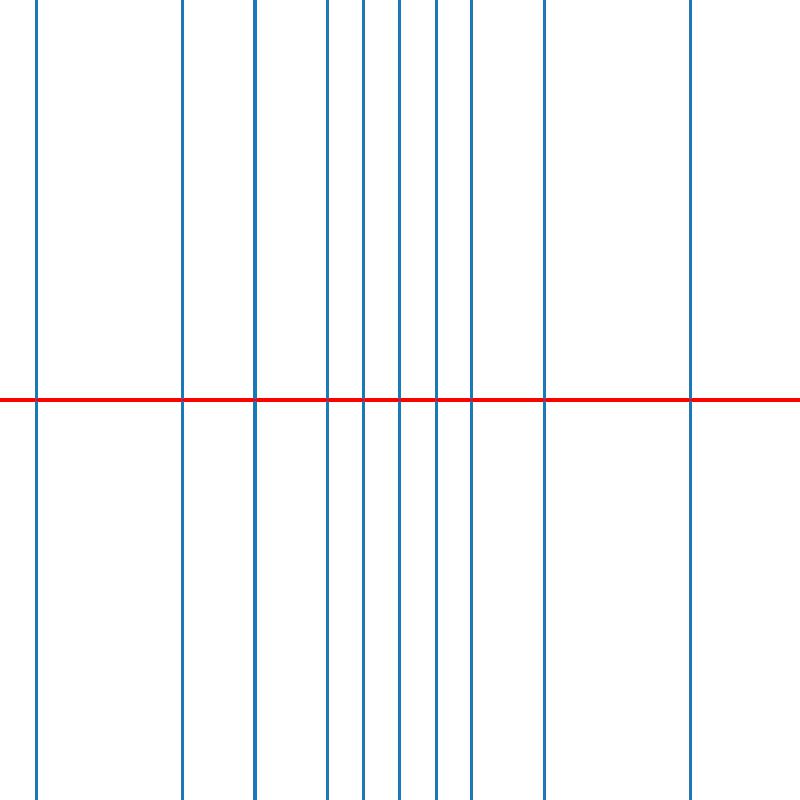root: (32, 396, 40, 404), (250, 396, 258, 404), (541, 396, 549, 404), (432, 396, 440, 404), (687, 396, 694, 404), (469, 396, 476, 404), (360, 396, 367, 404), (396, 396, 403, 404), (178, 396, 185, 404), (323, 396, 330, 404)
